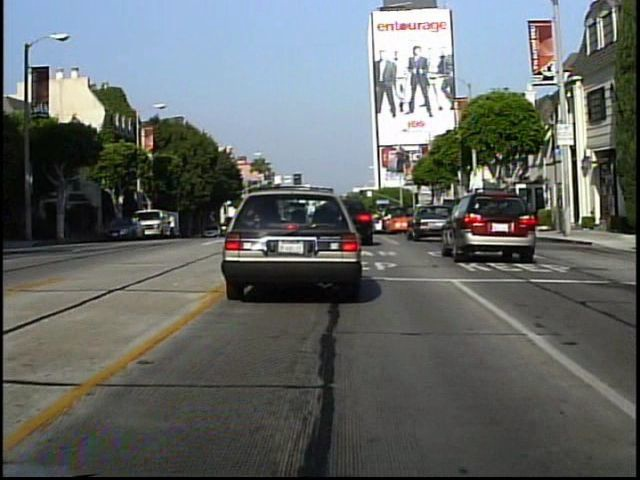person: (168, 210, 179, 240)
